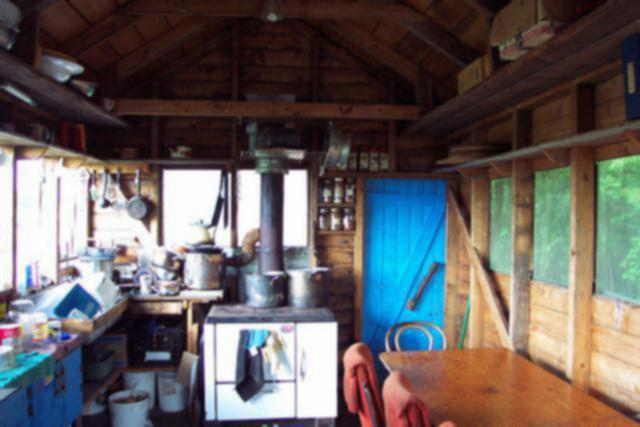Lavamanos: (17, 273, 125, 341)
Otro Obstaculo: (112, 384, 149, 426)
